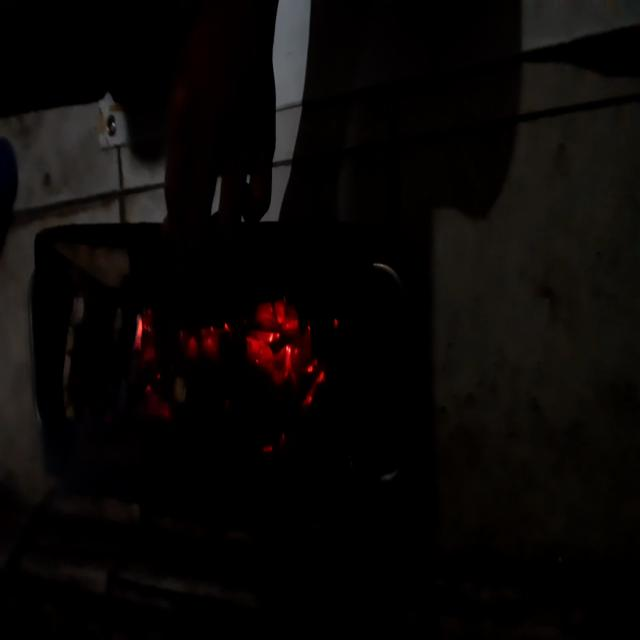Fire: (122, 294, 346, 462)
